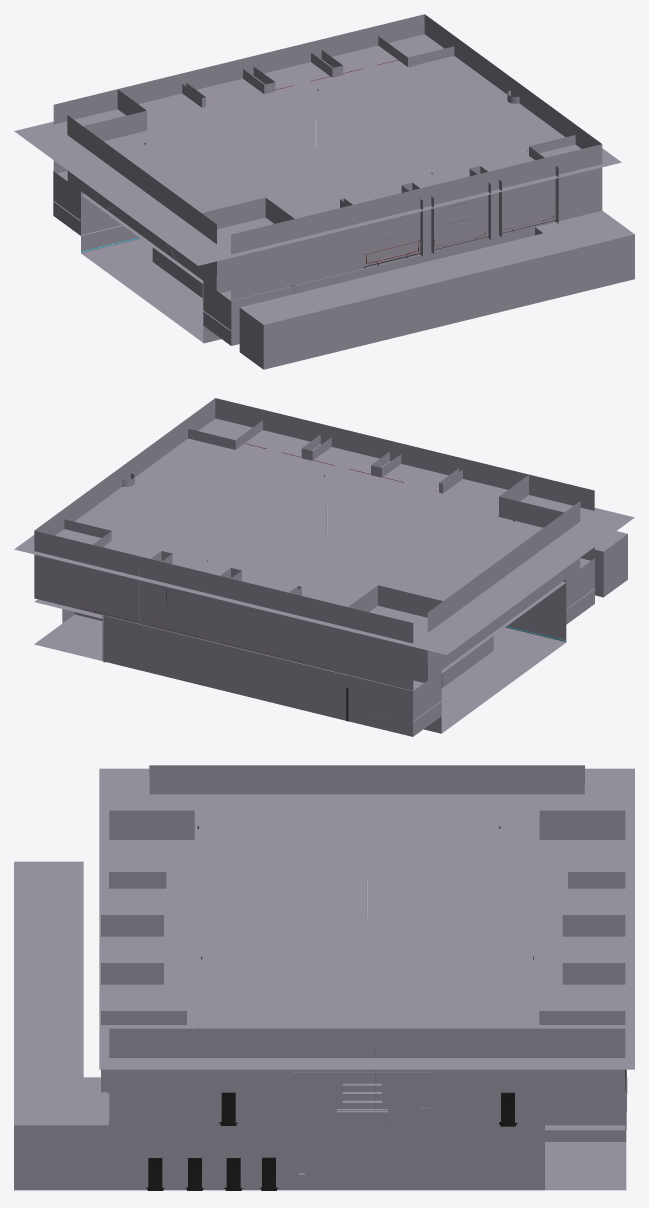
The model's file is club.glb.
3 renders of one model, top to bottom at view 1: azimuth 30°, elevation 25°; view 2: azimuth 150°, elevation 25°; view 3: azimuth 270°, elevation 25°, orthographic. The views are drawn at different scales.
Parts seen in each view (by area): view 1: shell; view 2: shell; view 3: shell, props_1_-1.
Part boxes in pixels (x1,y1,x2,y2): shell: (14,14,634,369); shell: (14,398,634,736); shell: (14,765,634,1190); props_1_-1: (185,1092,278,1190).
Size of what is drawn, in the model's own units: 43.16 by 13.34 by 37.66.
Materials: 10 (5 with a texture image).
